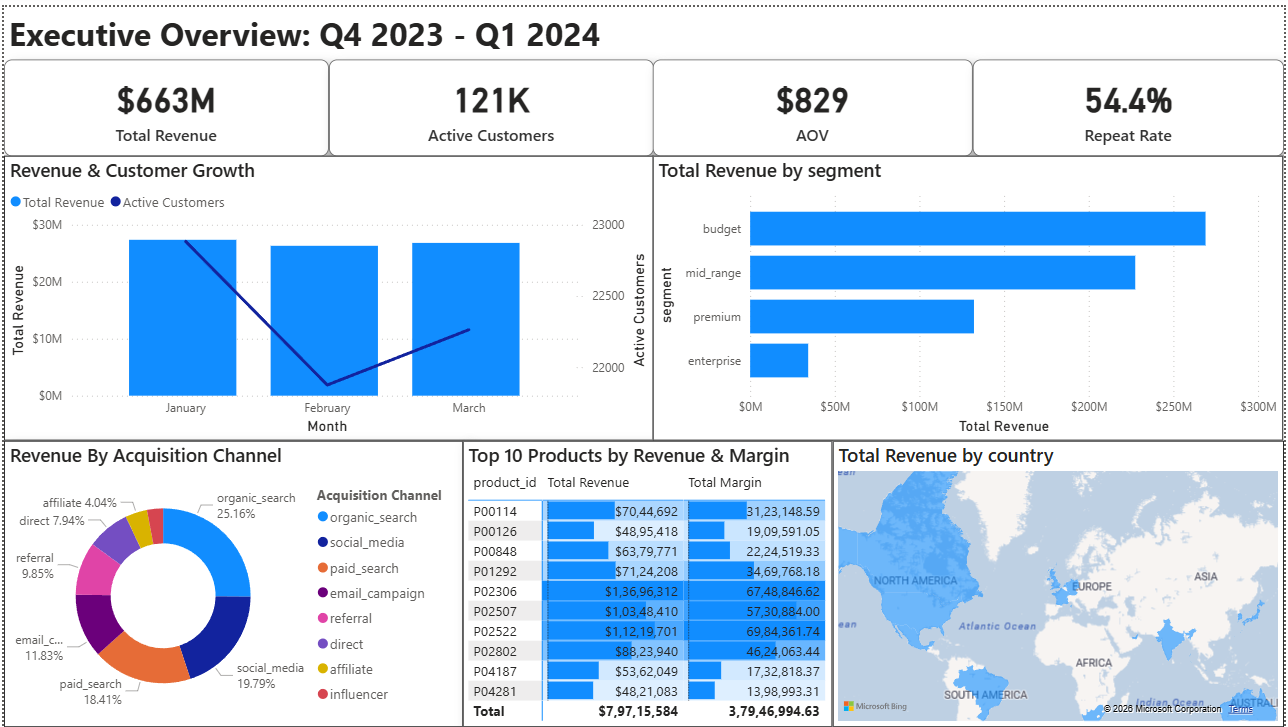

This screenshot's page, from the dashboard's own definition file:
{"tool":"powerbi","page":{"name":"Page 1","canvas":[1280,720],"ordinal":0},"visuals":[{"type":"textbox","box":[0,0,1280,52.5],"z":0},{"type":"card","fields":{"Values":["transactions.Total Revenue"]},"box":[0,52.2,324.7,97],"z":1000},{"type":"card","fields":{"Values":["transactions.Active Customers"]},"box":[324.7,52.2,324.7,97],"z":2000},{"type":"card","fields":{"Values":["transactions.AOV"]},"box":[649.3,52.2,319.7,97],"z":3000},{"type":"card","fields":{"Values":["transactions.Repeat Rate"]},"box":[969,52.2,311,97],"z":4000},{"type":"lineClusteredColumnComboChart","title":"Revenue & Customer Growth","fields":{"Category":["transactions.transaction_date.Variation.Date Hierarchy.Month"],"Y":["transactions.Total Revenue"],"Y2":["transactions.Active Customers"]},"box":[0,149.3,649.3,284.9],"z":5000},{"type":"donutChart","title":"Revenue By Acquisition Channel","fields":{"Category":["customers.acquisition_channel"],"Y":["transactions.Total Revenue"]},"box":[0,434.1,459,286.1],"z":6000},{"type":"pivotTable","title":"Top 10 Products by Revenue & Margin","fields":{"Rows":["products.product_id"],"Values":["transactions.Total Revenue","transactions.Total Margin"]},"box":[459,434.1,369.5,286.1],"z":7000},{"type":"filledMap","fields":{"Category":["customers.country"]},"box":[828.5,434.1,451.6,286.1],"z":8000},{"type":"clusteredBarChart","fields":{"Category":["customers.segment"],"Y":["transactions.Total Revenue"]},"box":[649.3,149.3,630.7,284.9],"z":9000}]}

Visuals, with their boxes in screenshot pixels (x1, y1, x2, y2), scaled from the page's 1280x720 canvas onto the 1288x727 screenshot:
textbox: box(0, 0, 1287, 53)
card - transactions.Total Revenue: box(0, 53, 327, 151)
card - transactions.Active Customers: box(327, 53, 653, 151)
card - transactions.AOV: box(653, 53, 975, 151)
card - transactions.Repeat Rate: box(975, 53, 1287, 151)
"Revenue & Customer Growth" lineClusteredColumnComboChart: box(0, 151, 653, 438)
"Revenue By Acquisition Channel" donutChart: box(0, 438, 462, 726)
"Top 10 Products by Revenue & Margin" pivotTable: box(462, 438, 834, 726)
filledMap - customers.country: box(834, 438, 1287, 726)
clusteredBarChart - customers.segment x transactions.Total Revenue: box(653, 151, 1287, 438)
